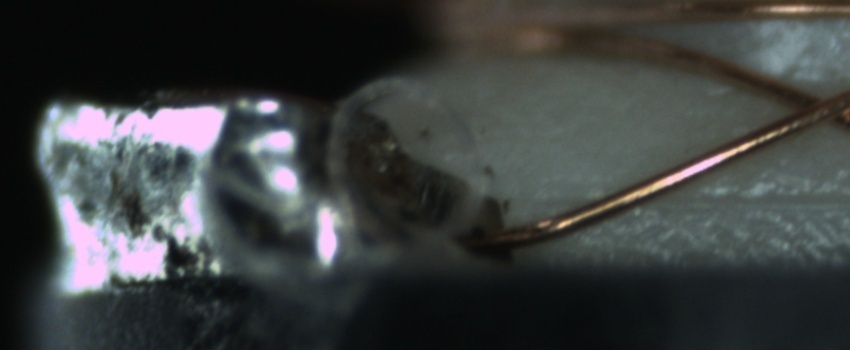CL: (770, 76, 850, 133)
DL: (539, 168, 849, 228)
